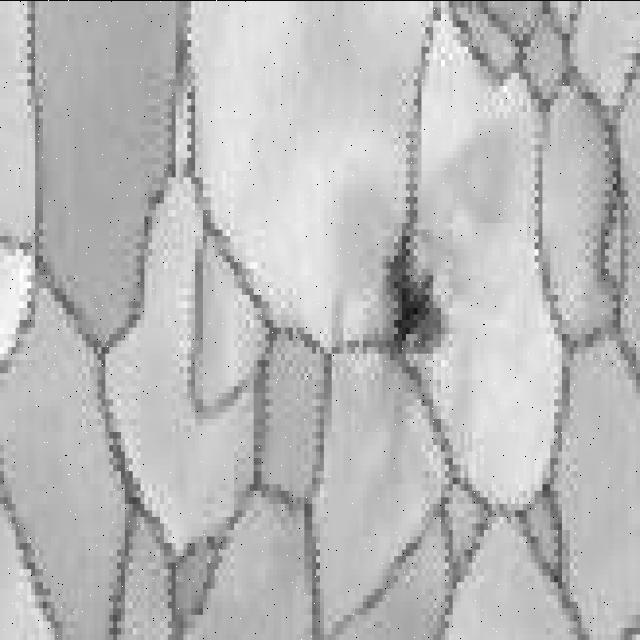good_void: (384, 222, 448, 375)
